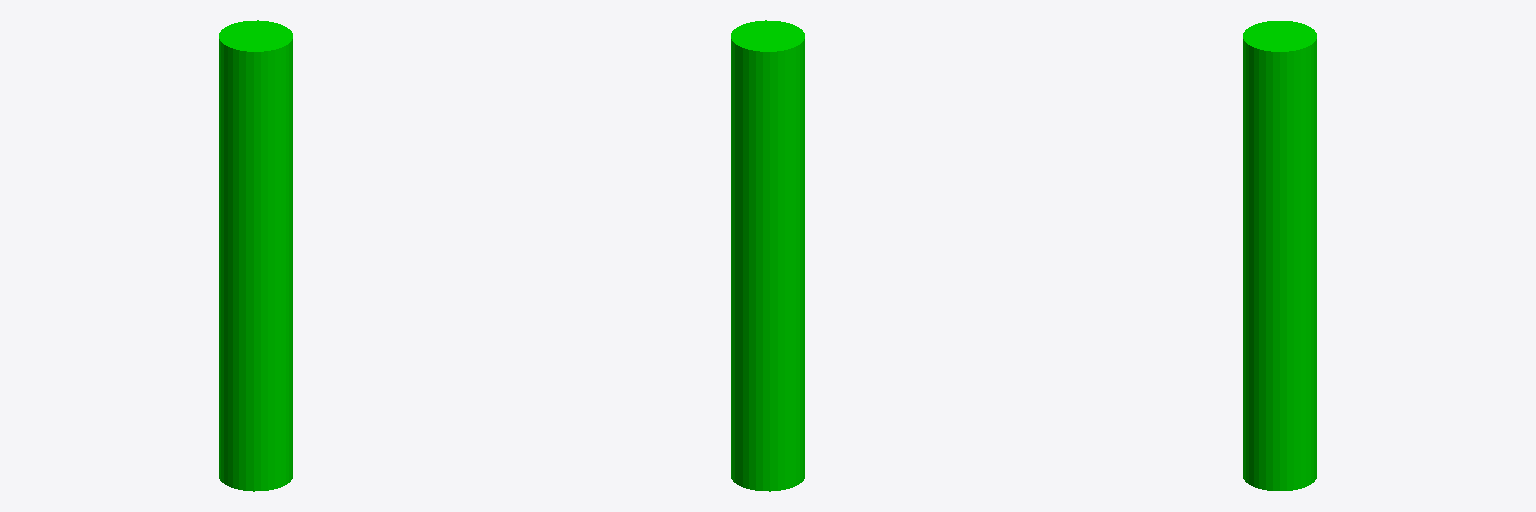
URDF robot description (simple_cylinder):
<?xml version="1.0"?>
<robot name="simple_cylinder">
  <link name="cylinder_base">
    <inertial>
      <origin xyz="0 0 0" rpy="0 0 0" />
      <mass value="0.088" />
      <inertia ixx="0.0001471708" ixy="0" ixz="0" iyy="0.0001471708" iyz="0"
               izz="0.000046475" />
    </inertial>
    <visual>
      <origin xyz="0 0 0" rpy="0 0 0" />
      <geometry>
        <cylinder length="0.130" radius="0.01" />
      </geometry>
      <material name="bright green">
        <color rgba="0.0 0.9 0.0 1" />
      </material>
    </visual>
    <collision>
      <geometry>
        <cylinder length="0.130" radius="0.01" />
      </geometry>
    </collision>
   </link>
</robot>

--- Render facts (derived) ---
Views: 3 orthographic renders of the robot side by side, from view 1: azimuth 30°, elevation 25°; view 2: azimuth 150°, elevation 25°; view 3: azimuth 270°, elevation 25°.
Model simple_cylinder with 1 links and 0 joints (none), rooted at cylinder_base, posed every joint at zero.
Links seen in each view (by area): view 1: cylinder_base; view 2: cylinder_base; view 3: cylinder_base.
Link boxes in pixels (left/top/right/bottom): cylinder_base: left=219, top=20, right=292, bottom=491; cylinder_base: left=731, top=20, right=804, bottom=491; cylinder_base: left=1243, top=21, right=1316, bottom=490.
Size in the robot's own frame: 0.02 by 0.02 by 0.13 metres.
Geometry: primitives only (box / cylinder / sphere), no mesh files.